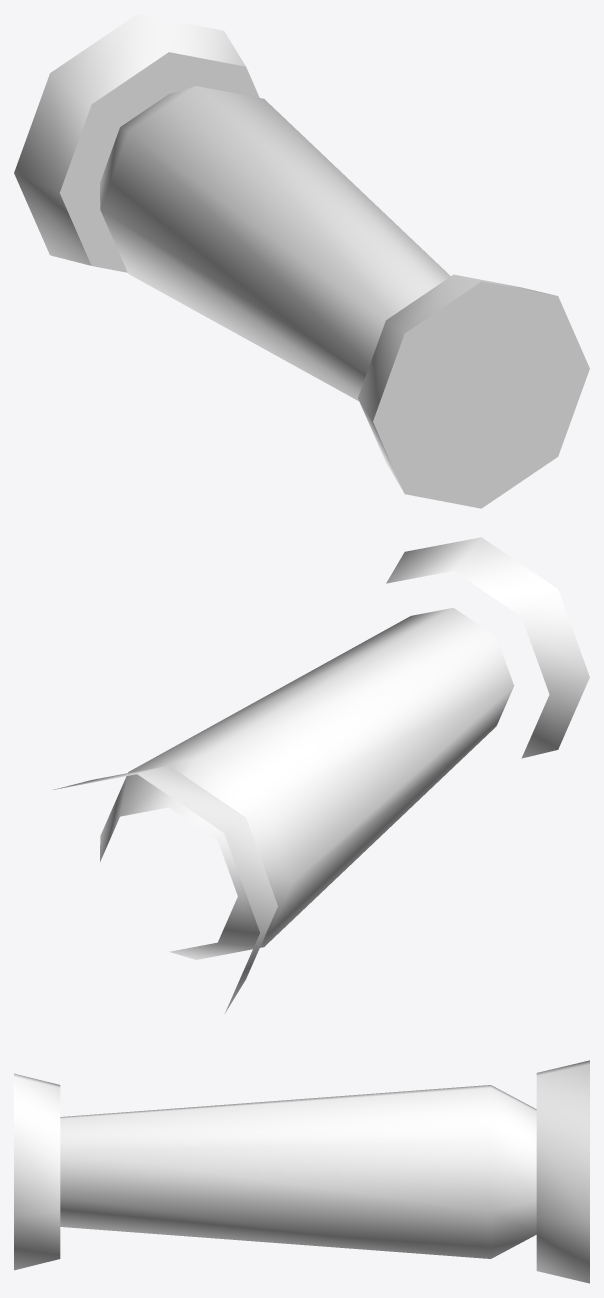
Rendered from doric pillar.glb.
The picture shows the model from 3 angles, top to bottom: view 1: azimuth 30°, elevation 25°; view 2: azimuth 150°, elevation 25°; view 3: azimuth 270°, elevation 25°; orthographic projection. The views are drawn at different scales.
Parts seen in each view (by area): view 1: doric.model-Mesh[0]; view 2: doric.model-Mesh[0]; view 3: doric.model-Mesh[0].
Part boxes in pixels (x1=…): doric.model-Mesh[0]: x1=14, y1=14, x2=589, y2=508; doric.model-Mesh[0]: x1=53, y1=537, x2=589, y2=1013; doric.model-Mesh[0]: x1=14, y1=1060, x2=589, y2=1283.
Bounding box in the file's own units: 1.59 × 1.59 × 3.85.
Materials: 1 (1 with a texture image).
